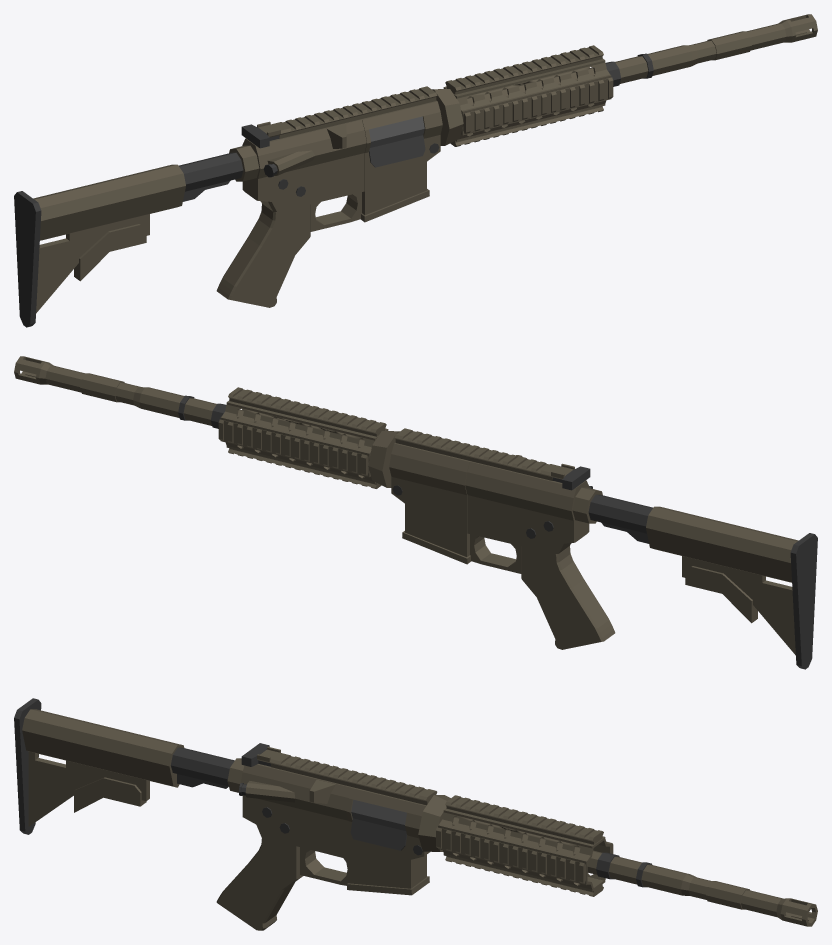
File: AssaultRifle4_02.fbx
The picture shows the model from 3 angles, top to bottom: view 1: azimuth 30°, elevation 25°; view 2: azimuth 150°, elevation 25°; view 3: azimuth 330°, elevation 25°; orthographic projection.
Visible parts, largest first — view 1: AssaultRifle4_02; view 2: AssaultRifle4_02; view 3: AssaultRifle4_02.
Boxes of the visible parts, bbox=[...] form: AssaultRifle4_02: bbox=[14, 14, 817, 327]; AssaultRifle4_02: bbox=[14, 356, 817, 669]; AssaultRifle4_02: bbox=[14, 698, 817, 930].
Size of the model in its own units: 0.9841 by 0.2093 by 0.0717.
